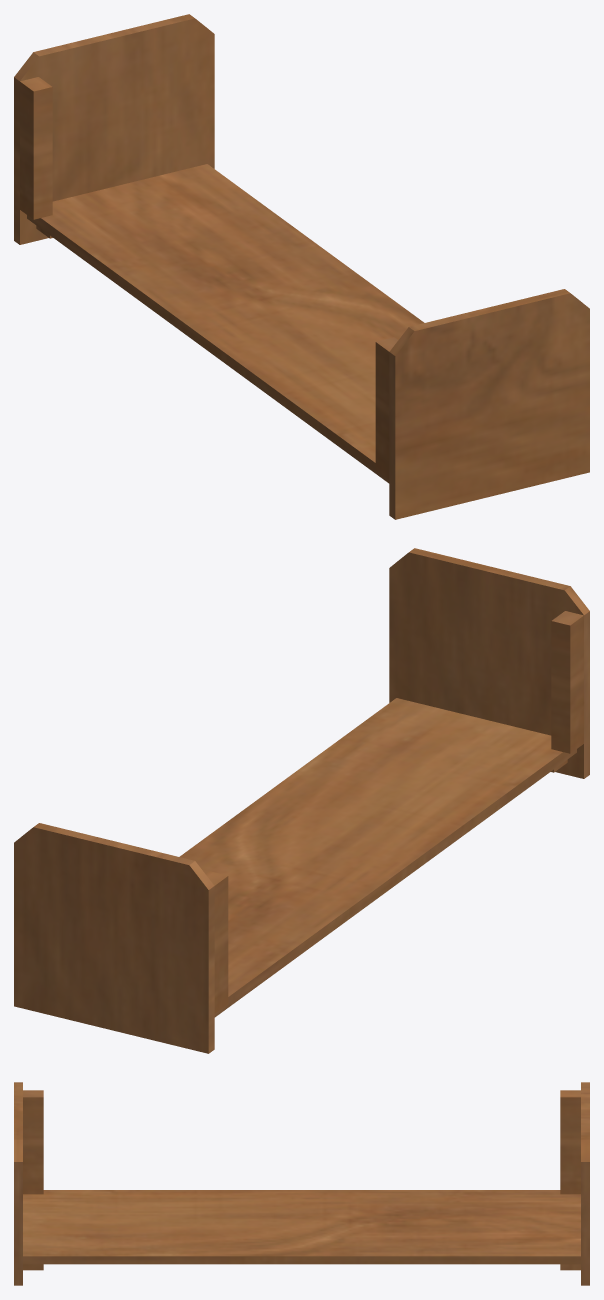
Rendered from shelf.FBX.
The picture shows the model from 3 angles, top to bottom: view 1: azimuth 30°, elevation 25°; view 2: azimuth 150°, elevation 25°; view 3: azimuth 270°, elevation 25°; orthographic projection. The views are drawn at different scales.
Visible parts, largest first — view 1: shelf; view 2: shelf; view 3: shelf.
Part boxes in pixels (x1,y1,x2,y2): shelf: (14,14,589,519); shelf: (14,548,589,1053); shelf: (14,1082,589,1285).
Size of the model in its own units: 13.7 by 12.36 by 46.45.
